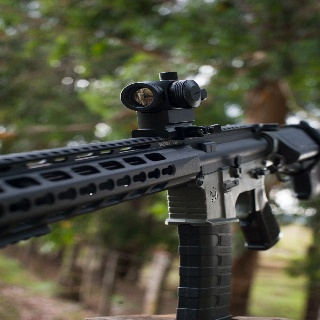rifle: (1, 68, 320, 320)
